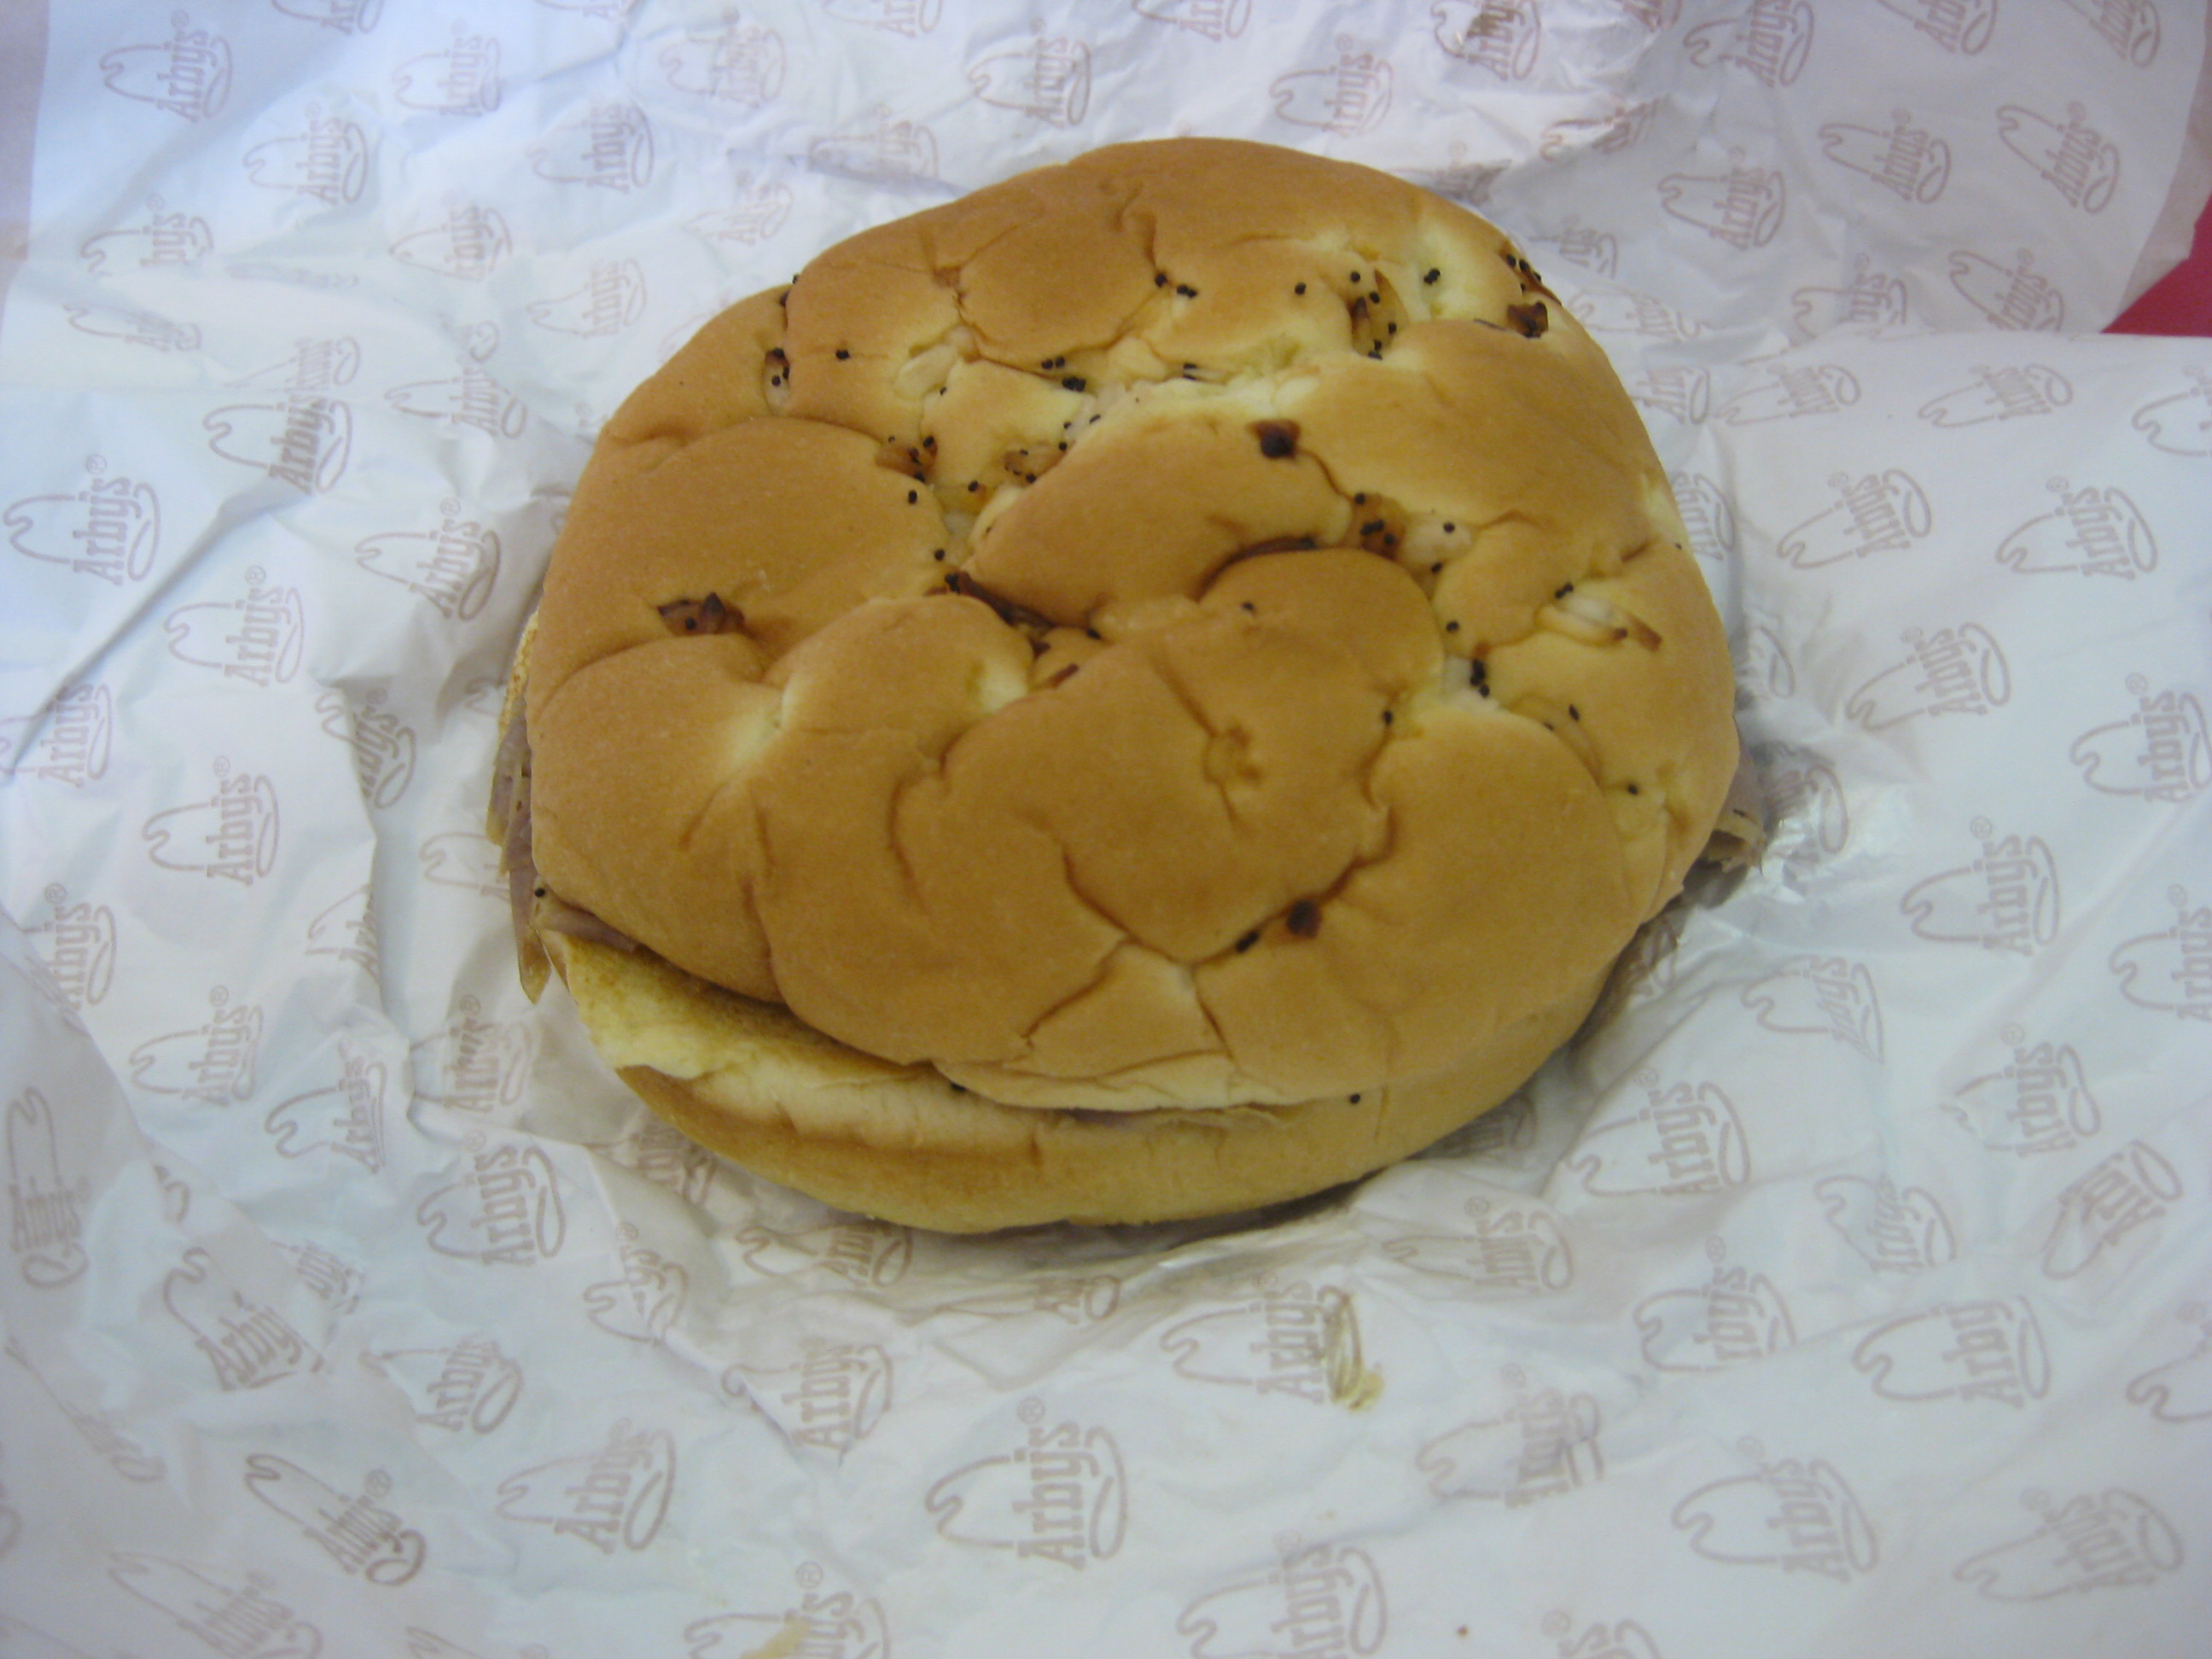burger: (469, 87, 1854, 1284)
